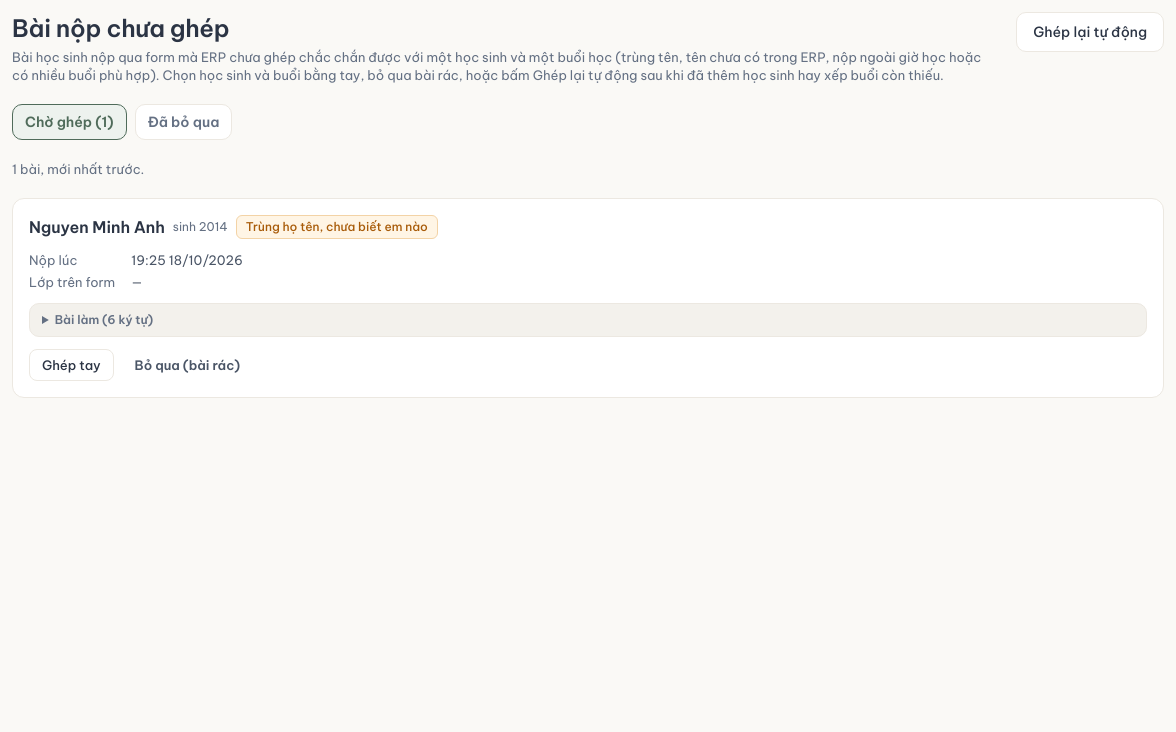
Test: manual match › shows a load error
Click the button "Ghép tay" at (71, 365), box [29,349,114,381]
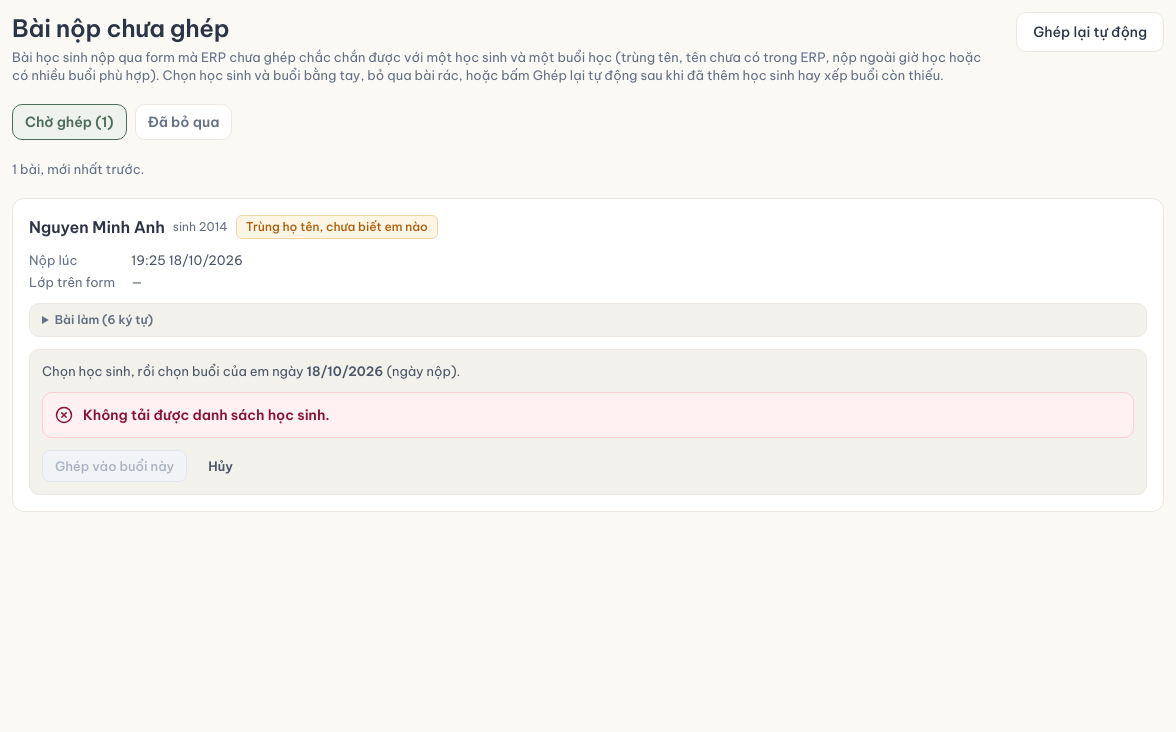
expect the text "Không tải được danh sách học sinh." is shown: met, box [83,406,330,424]
